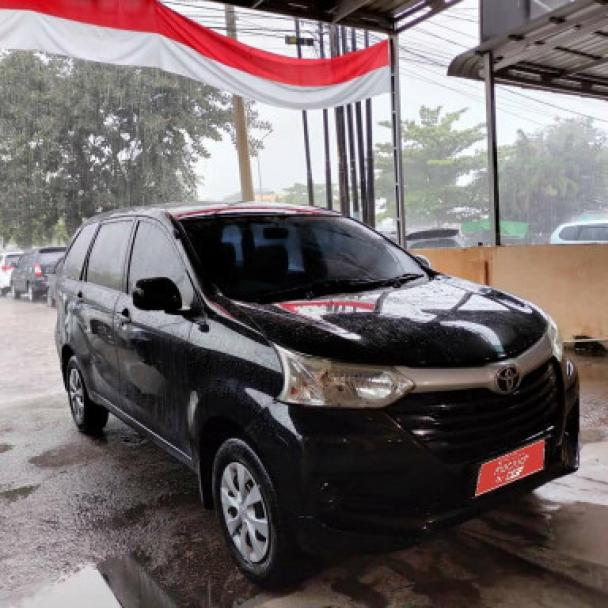Mobil: (37, 204, 576, 548), (4, 234, 56, 308), (545, 214, 608, 253)
